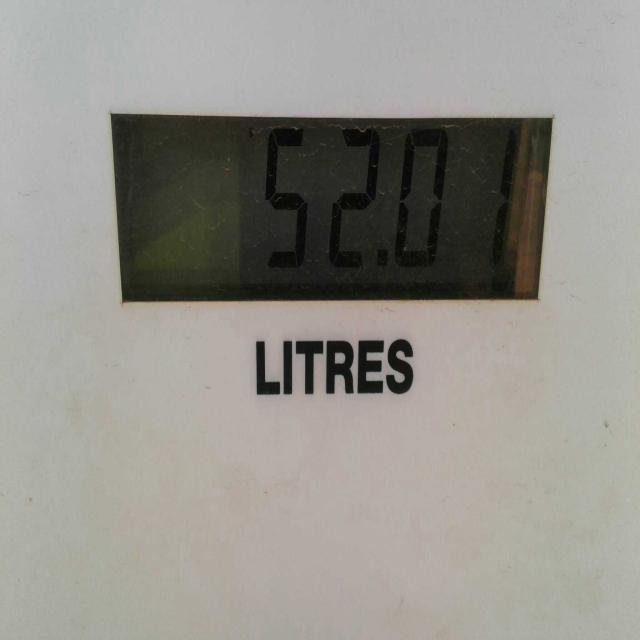.: (382, 242, 393, 271)
0: (399, 125, 445, 269)
1: (491, 118, 519, 290)
2: (330, 122, 379, 268)
5: (269, 125, 309, 269)
